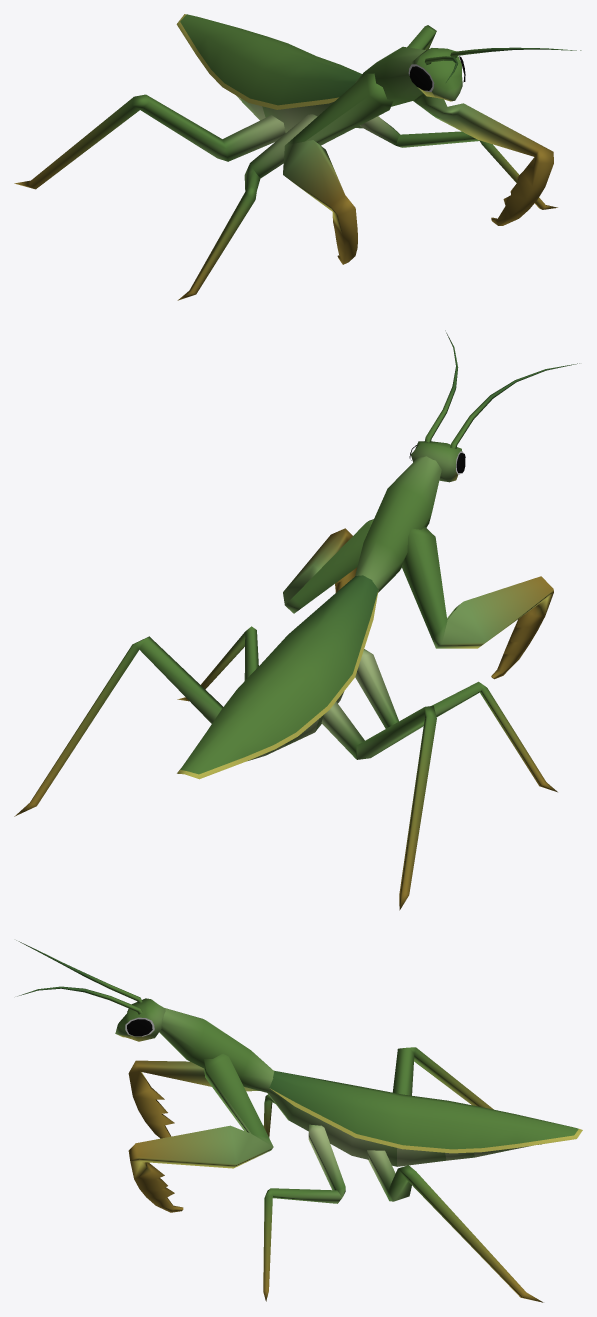
Rendered from kit-mantis.glb.
The picture shows the model from 3 angles, top to bottom: view 1: azimuth 30°, elevation 25°; view 2: azimuth 150°, elevation 25°; view 3: azimuth 270°, elevation 25°; orthographic projection. The views are drawn at different scales.
Parts seen in each view (by area): view 1: base; view 2: base; view 3: base.
Part boxes in pixels (bbox=[...]): base: bbox=[14, 14, 581, 300]; base: bbox=[14, 330, 579, 910]; base: bbox=[16, 940, 582, 1302].
Size of the model in its own units: 0.5009 by 0.3641 by 0.741.
